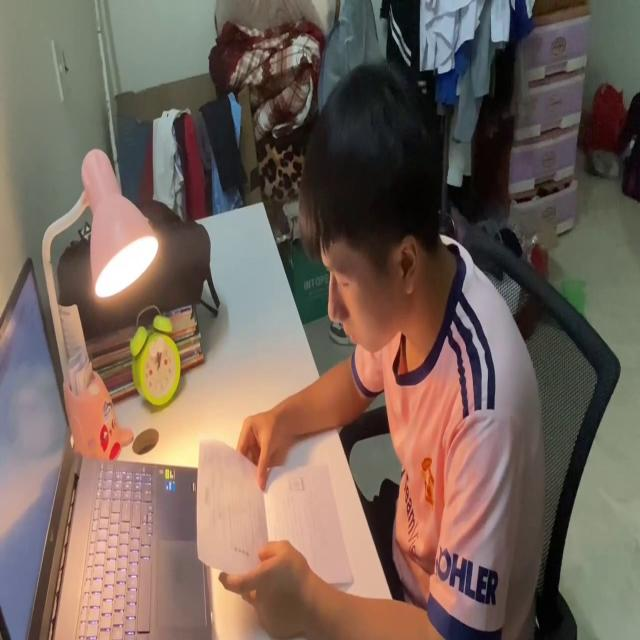book: (196, 429, 351, 588)
laptop: (0, 250, 213, 640)
student: (214, 55, 552, 640)
